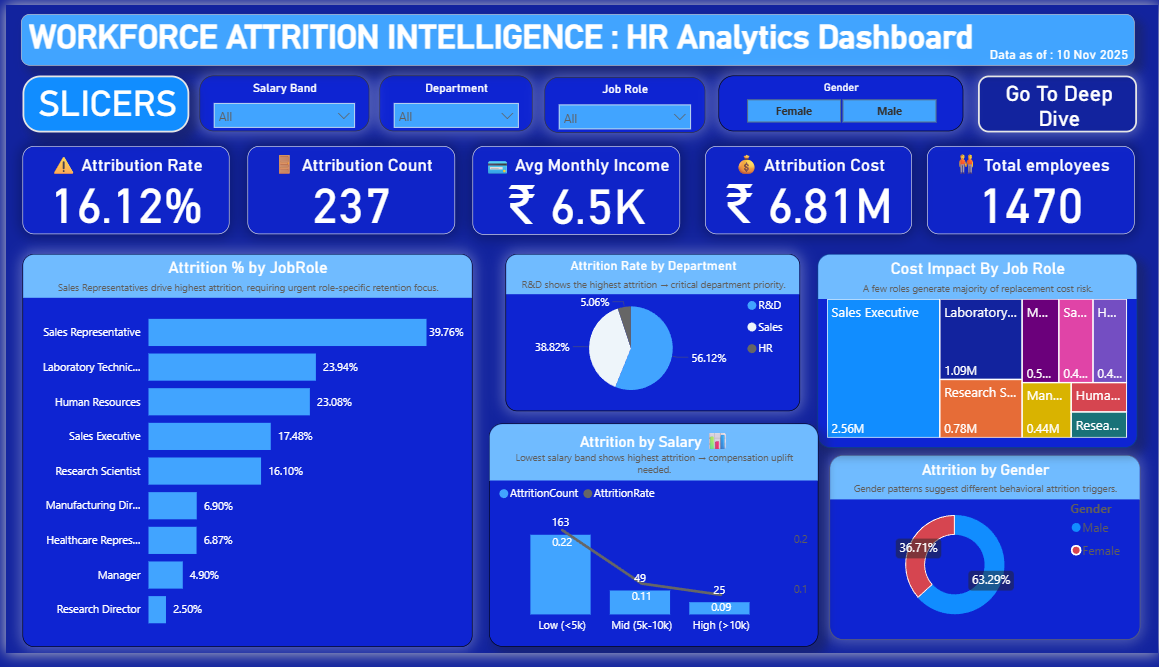

This screenshot's page, from the dashboard's own definition file:
{"tool":"powerbi","page":{"name":"Executive Overview","canvas":[1280,720],"ordinal":0},"visuals":[{"type":"card","title":"⚠️ Attribution Rate ","fields":{"Values":["hr_attrition1.AttritionRate"]},"box":[19.1,157.5,230,98],"z":0},{"type":"card","title":" 💳 Avg Monthly Income","fields":{"Values":["hr_attrition1.AvgMonthlyIncome"]},"box":[518.5,157.5,230.6,98.6],"z":1000},{"type":"card","title":"💰 Attribution Cost ","fields":{"Values":["hr_attrition1.AttritionCost"]},"box":[768.3,157.5,230.6,98.6],"z":2000},{"type":"card","title":"🚪 Attribution Count ","fields":{"Values":["hr_attrition1.AttritionCount"]},"box":[268.8,157.5,230.6,98],"z":3000},{"type":"card","title":"🧑🤝🧑 Total employees ","fields":{"Values":["hr_attrition1.TotalEmployees"]},"box":[1022.8,157.5,230.6,98],"z":4000},{"type":"barChart","title":"Attrition % by JobRole","fields":{"Category":["hr_attrition1.JobRole"],"Y":["hr_attrition1.AttritionRate"]},"box":[18.3,276.7,500,436.7],"z":5000},{"type":"donutChart","title":"Attrition by Gender","fields":{"Category":["hr_attrition1.Gender"],"Y":["hr_attrition1.AttritionCount"]},"box":[914.6,499.5,345.2,205.2],"z":6000},{"type":"treemap","title":"Cost Impact By Job Role","fields":{"Group":["hr_attrition1.JobRole"],"Values":["hr_attrition1.AttritionCost"]},"box":[901.7,276.7,355,215],"z":7000},{"type":"lineClusteredColumnComboChart","title":" Attrition by Salary 📊","fields":{"Category":["hr_attrition1.SalaryBand"],"Y":["hr_attrition1.AttritionCount"],"Y2":["hr_attrition1.AttritionRate"]},"box":[536,464.5,365.8,248.1],"z":8000},{"type":"pieChart","title":"Attrition Rate by Department","fields":{"Category":["hr_attrition1.Department"],"Y":["hr_attrition1.AttritionCount"]},"box":[555.1,276.8,327.7,175],"z":9000},{"type":"slicer","title":"Department","fields":{"Values":["hr_attrition1.Department"]},"box":[415,78.3,170,61.7],"z":10000},{"type":"slicer","title":"Job Role","fields":{"Values":["hr_attrition1.JobRole"]},"box":[598.3,80,178.3,61.7],"z":11000},{"type":"slicer","title":"Salary Band","fields":{"Values":["hr_attrition1.SalaryBand"]},"box":[215,78,188.3,61.7],"z":12000},{"type":"textbox","title":"WORKFORCE ATTRITION INTELLIGENCE : HR Analytics Dashboard","box":[15.9,9.5,1237.5,57.3],"z":13000},{"type":"actionButton","title":"Go To Deep Dive","box":[1080,78.3,176.7,63.3],"z":14000},{"type":"slicer","title":"Gender","fields":{"Values":["hr_attrition1.Gender"]},"box":[791.7,78.3,271.7,61.7],"z":15000},{"type":"shape","title":"SLICERS","box":[18.3,78.3,185,63.3],"z":16000},{"type":"card","fields":{"Values":["hr_attrition1.DataAsOf"]},"box":[1060.9,42,216.3,28.6],"z":17000}]}

Visuals, with their boxes in screenshot pixels (x1, y1, x2, y2), scaled from the page's 1280x720 canvas onto the 1159x667 screenshot:
"⚠️ Attribution Rate " card: x1=17 y1=146 x2=226 y2=237
" 💳 Avg Monthly Income" card: x1=469 y1=146 x2=678 y2=237
"💰 Attribution Cost " card: x1=696 y1=146 x2=904 y2=237
"🚪 Attribution Count " card: x1=243 y1=146 x2=452 y2=237
"🧑🤝🧑 Total employees " card: x1=926 y1=146 x2=1135 y2=237
"Attrition % by JobRole" barChart: x1=17 y1=256 x2=469 y2=661
"Attrition by Gender" donutChart: x1=828 y1=463 x2=1141 y2=653
"Cost Impact By Job Role" treemap: x1=816 y1=256 x2=1138 y2=456
" Attrition by Salary 📊" lineClusteredColumnComboChart: x1=485 y1=430 x2=817 y2=660
"Attrition Rate by Department" pieChart: x1=503 y1=256 x2=799 y2=419
"Department" slicer: x1=376 y1=73 x2=530 y2=130
"Job Role" slicer: x1=542 y1=74 x2=703 y2=131
"Salary Band" slicer: x1=195 y1=72 x2=365 y2=129
"WORKFORCE ATTRITION INTELLIGENCE : HR Analytics Dashboard" textbox: x1=14 y1=9 x2=1135 y2=62
"Go To Deep Dive" actionButton: x1=978 y1=73 x2=1138 y2=131
"Gender" slicer: x1=717 y1=73 x2=963 y2=130
"SLICERS" shape: x1=17 y1=73 x2=184 y2=131
card - hr_attrition1.DataAsOf: x1=961 y1=39 x2=1156 y2=65
